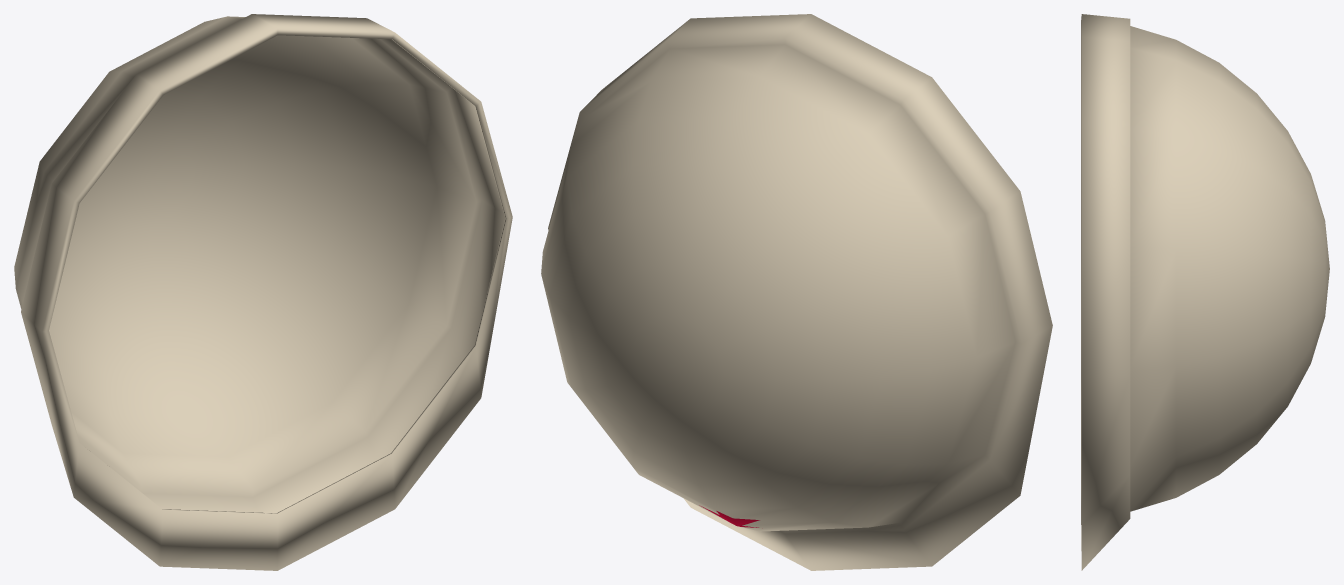
The model's file is item-tan-army-hat.glb.
3 views of the same model, side by side, from view 1: azimuth 30°, elevation 25°; view 2: azimuth 150°, elevation 25°; view 3: azimuth 270°, elevation 25° (orthographic). The views are drawn at different scales.
Size of the model in its own units: 2.06 by 2.27 by 1.
